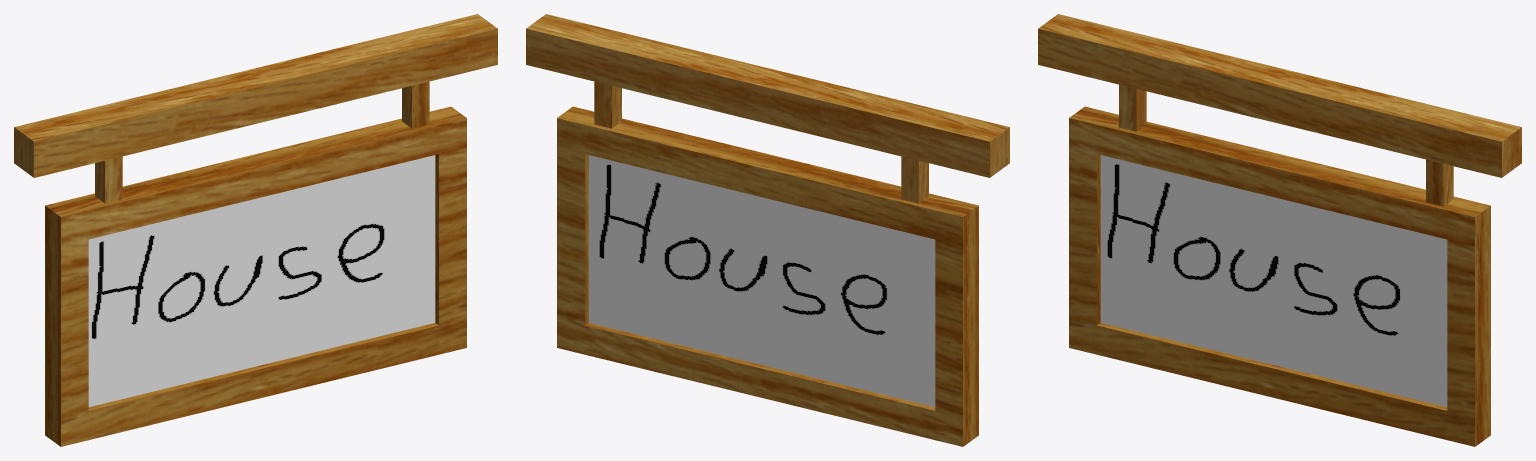
The model's file is sign.glb.
The picture shows the model from 3 angles, left to right: view 1: azimuth 30°, elevation 25°; view 2: azimuth 150°, elevation 25°; view 3: azimuth 330°, elevation 25°; orthographic projection.
Parts seen in each view (by area): view 1: Cube; view 2: Cube; view 3: Cube.
Boxes of the visible parts, <box> form: Cube: <box>14,14,497,446</box>; Cube: <box>526,14,1009,446</box>; Cube: <box>1038,14,1521,446</box>.
Size of the model in its own units: 2.28 by 1.48 by 0.1706.
Materials: 2 (2 with a texture image).
